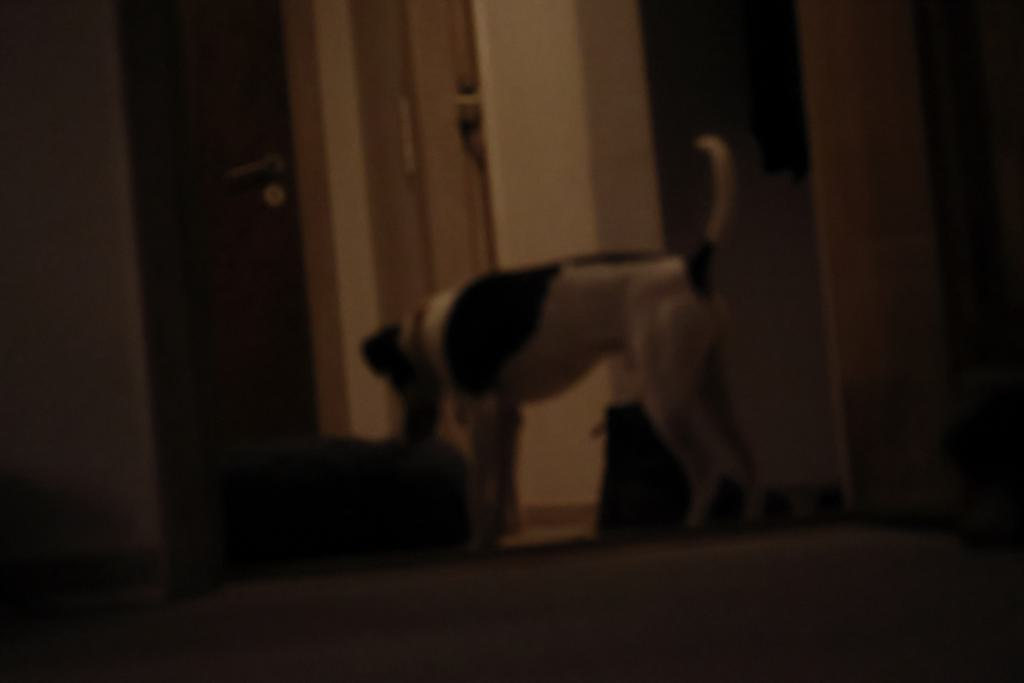Dog: (352, 127, 776, 542)
